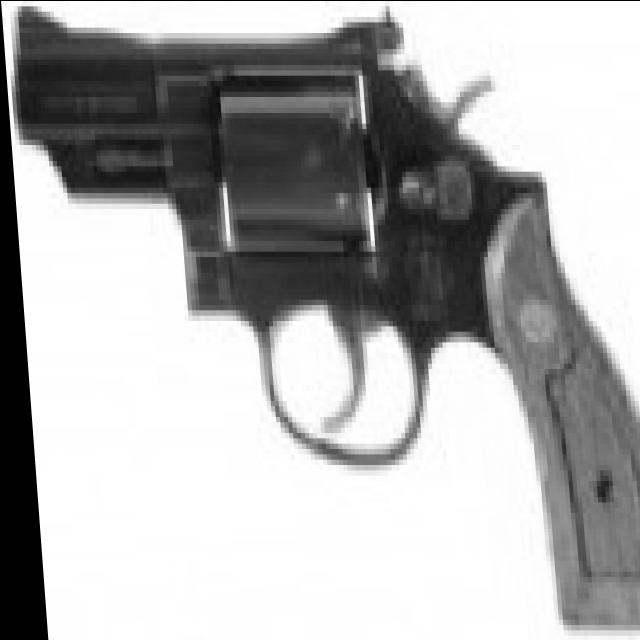handgun: (12, 0, 640, 629)
